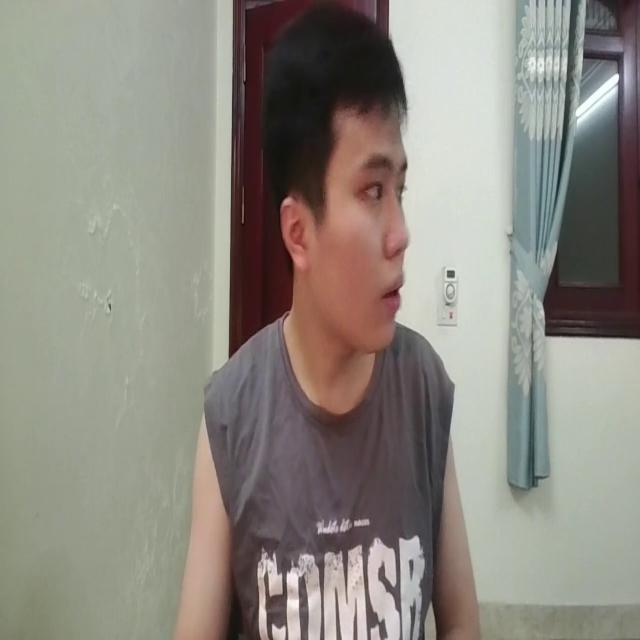student: (158, 9, 489, 640)
